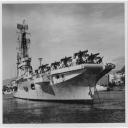Portanaves: (10, 19, 117, 108)
